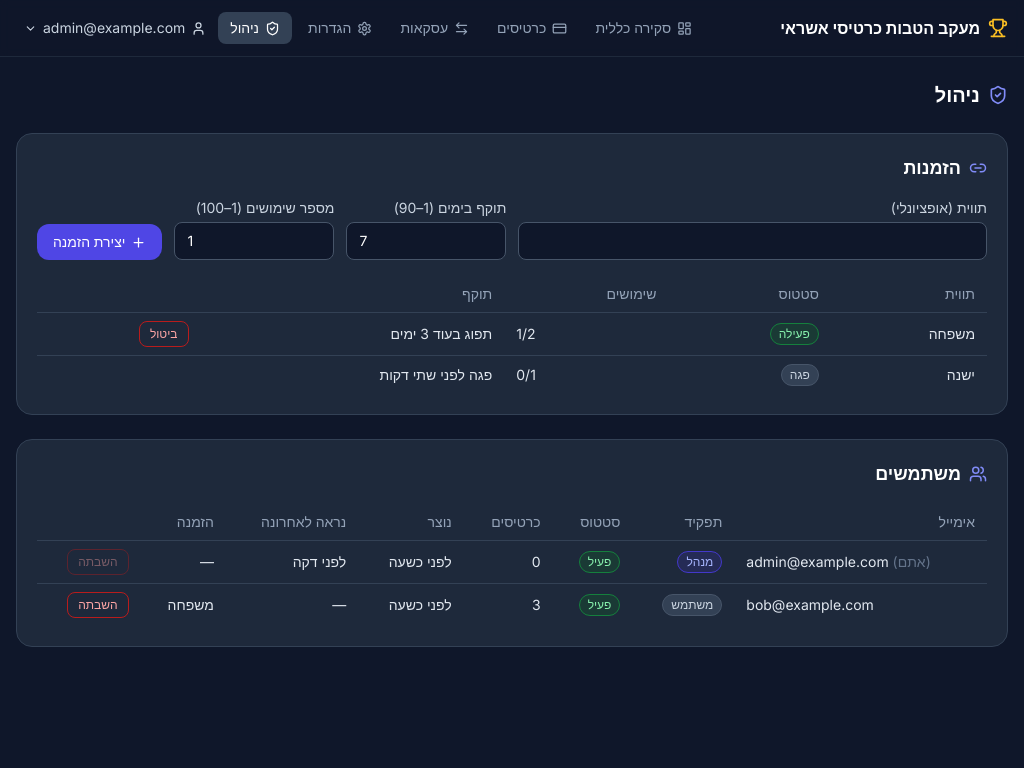
it: admin page › validates create-form ranges client-side
This screenshot has width=1024, height=768.
Expected: the text "פעילה" is shown, [770,323,819,345]
Replace the text in the field labelled "תוקף בימים (1–90)" with "91": point(426, 241) [346,222,506,260]
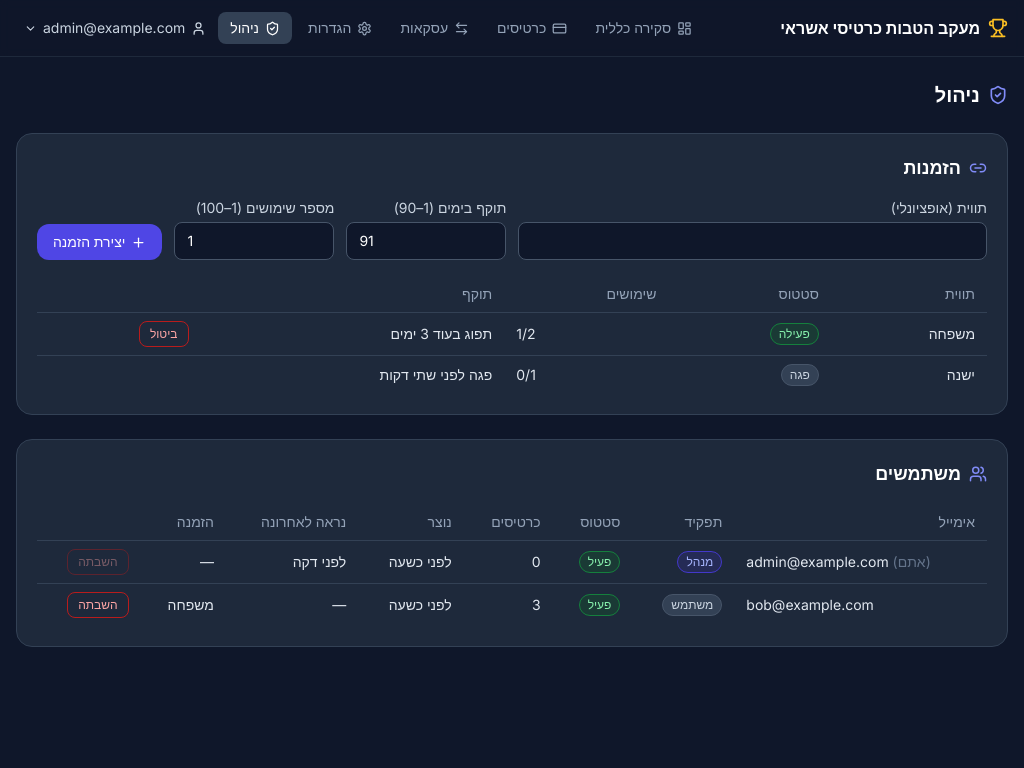
Click the button "יצירת הזמנה": point(100, 242) [37,224,162,260]
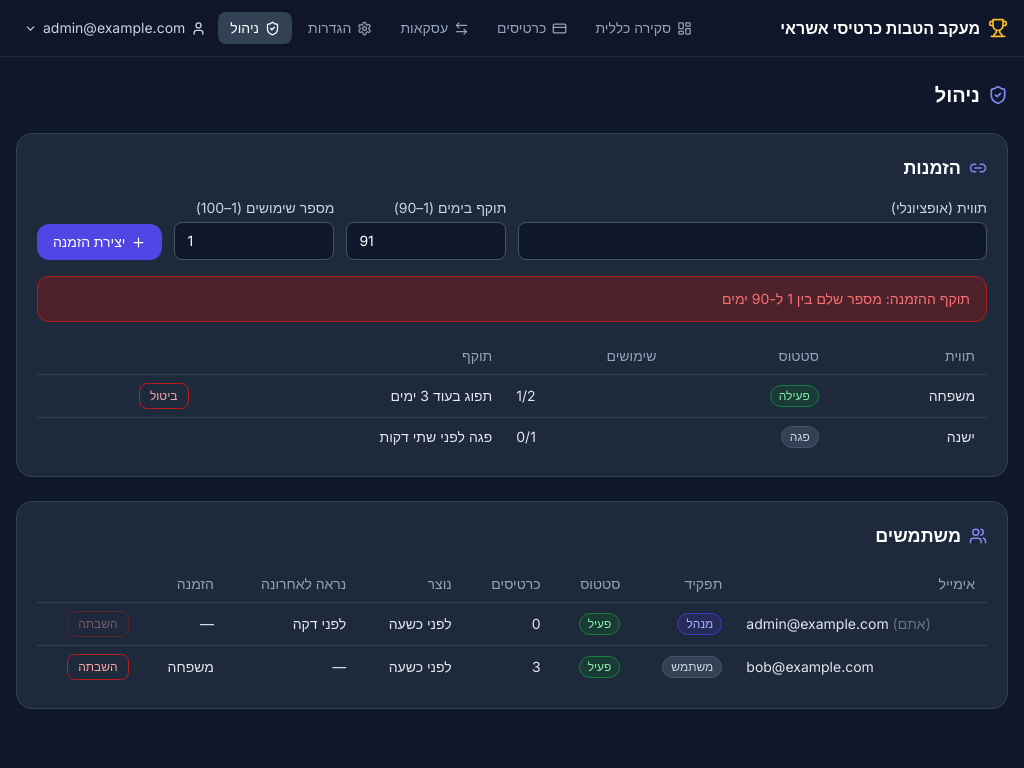
Now the text "תוקף ההזמנה: מספר שלם בין 1 ל-90 ימים" is shown, box [37,276,987,322]
